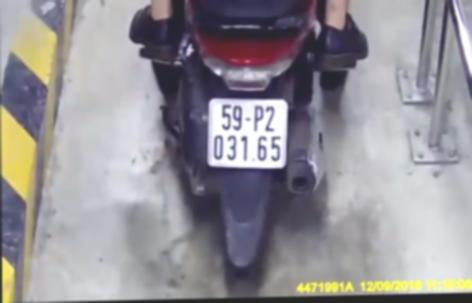License_Plate: (199, 87, 294, 176)
